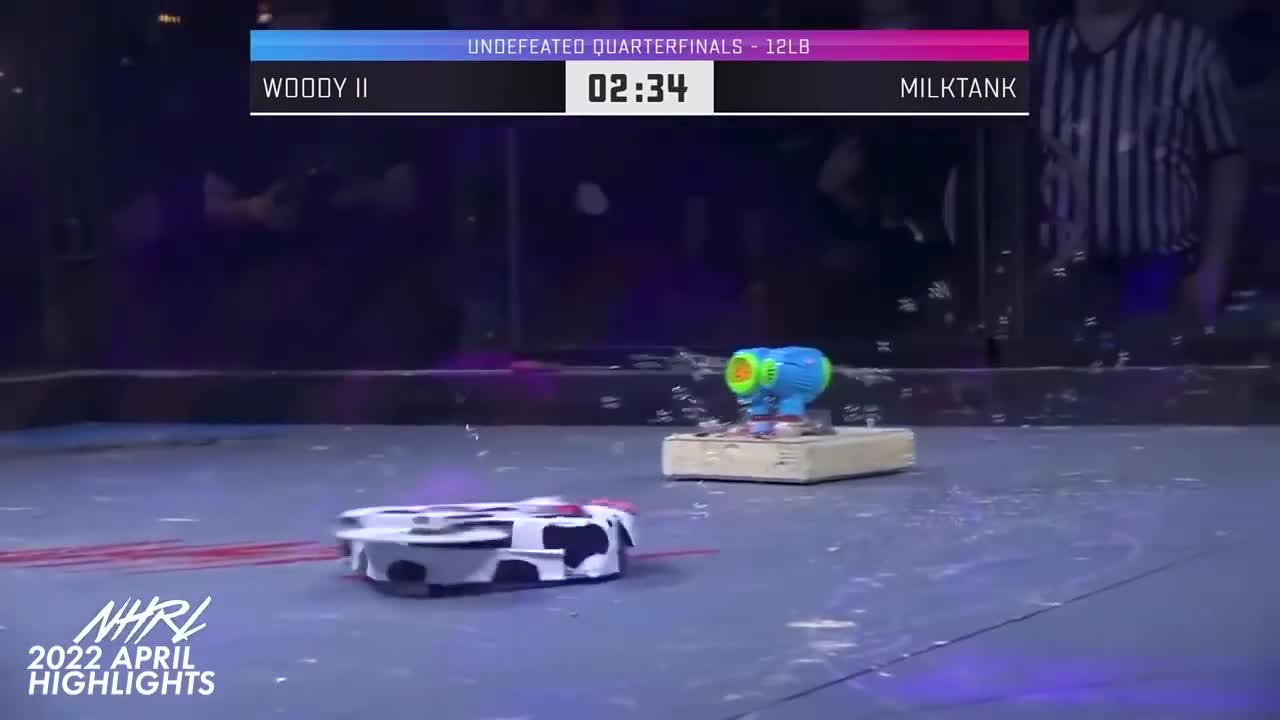combatbot: (665, 346, 916, 485), (336, 497, 641, 603)
